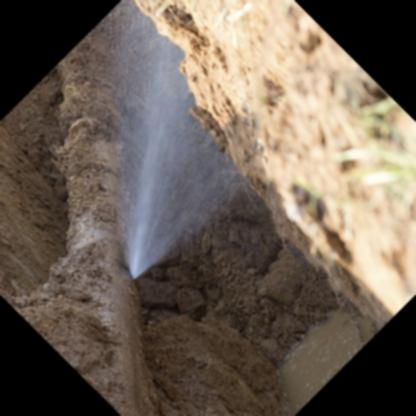burst: (114, 249, 161, 295)
